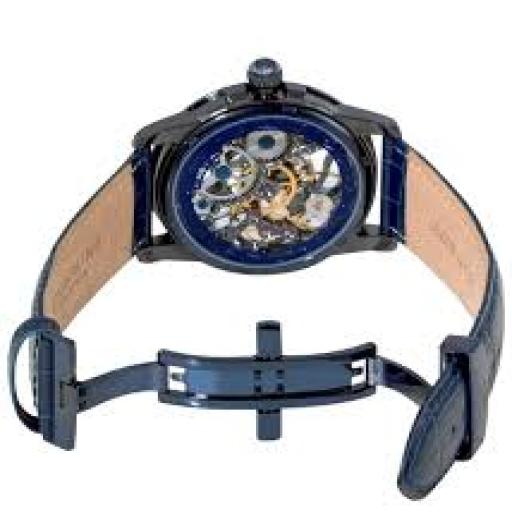KolSaati: (2, 59, 512, 492)
